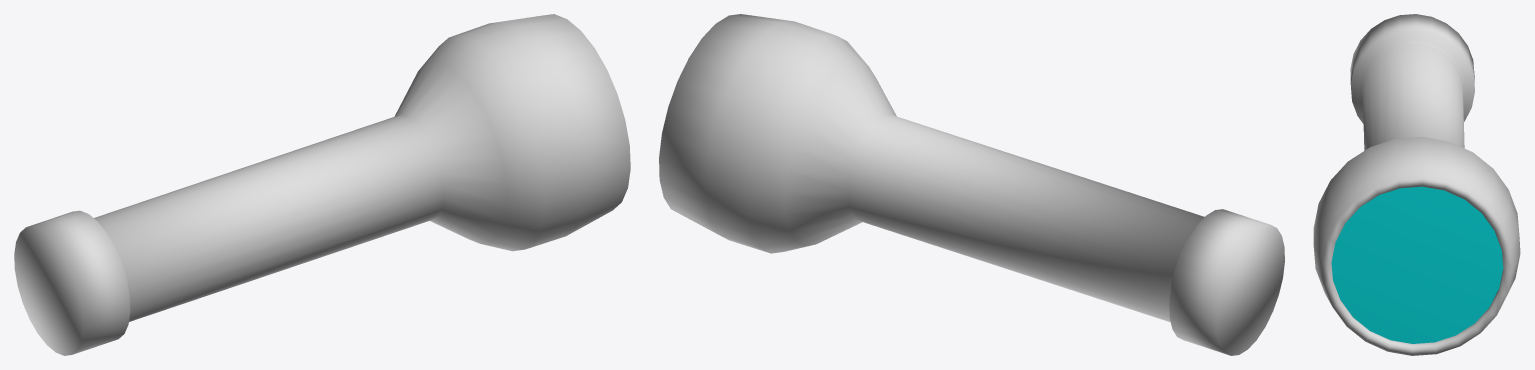
The model's file is Linterna.fbx.
3 renders of one model, left to right at view 1: azimuth 30°, elevation 25°; view 2: azimuth 150°, elevation 25°; view 3: azimuth 270°, elevation 25°, orthographic. The views are drawn at different scales.
Visible parts, largest first — view 1: Linterna; view 2: Linterna; view 3: Linterna.
Boxes of the visible parts, bbox=[...] form: Linterna: bbox=[14, 14, 630, 355]; Linterna: bbox=[659, 14, 1284, 355]; Linterna: bbox=[1313, 14, 1520, 355].
Size of the model in its own units: 22.19 by 8.08 by 7.98.
